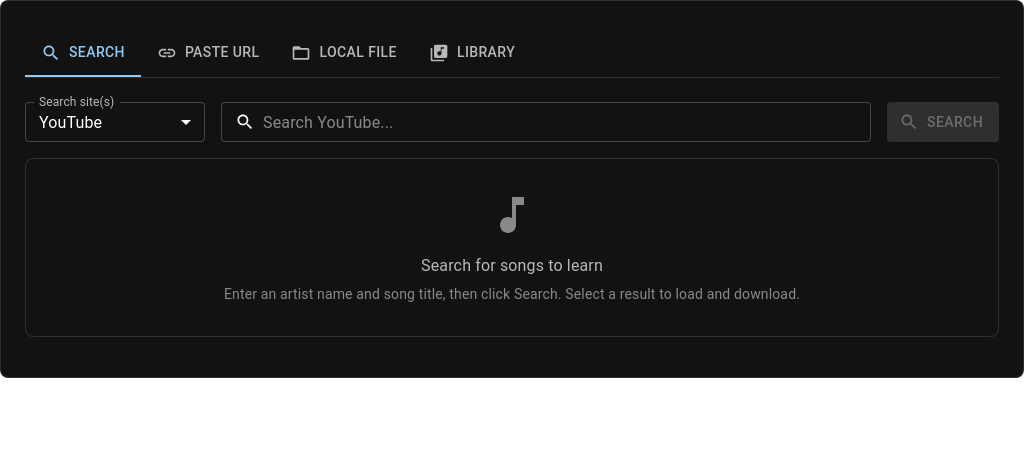
Test: ConversionForm › validates URL on paste tab
Click the tab "Paste URL": (208, 53) [141,29,275,77]
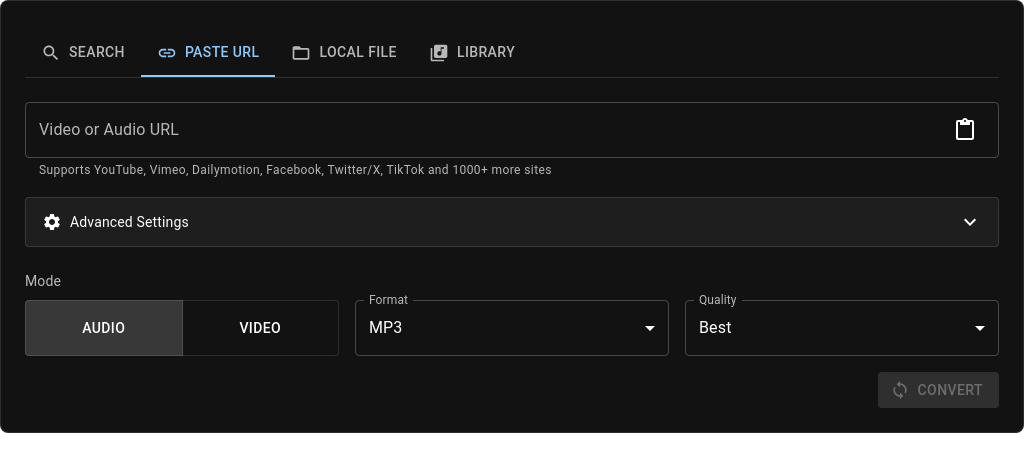
In the field named "video or audio url input": (481, 130) [25,102,937,158], type "not-a-valid-url"
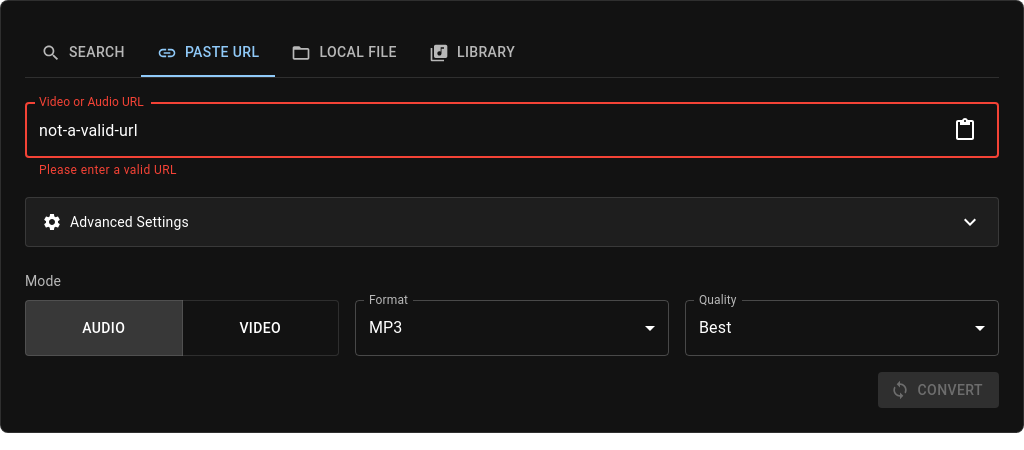
Check: the text "Please enter a valid URL" is shown, box [39,163,177,177]
